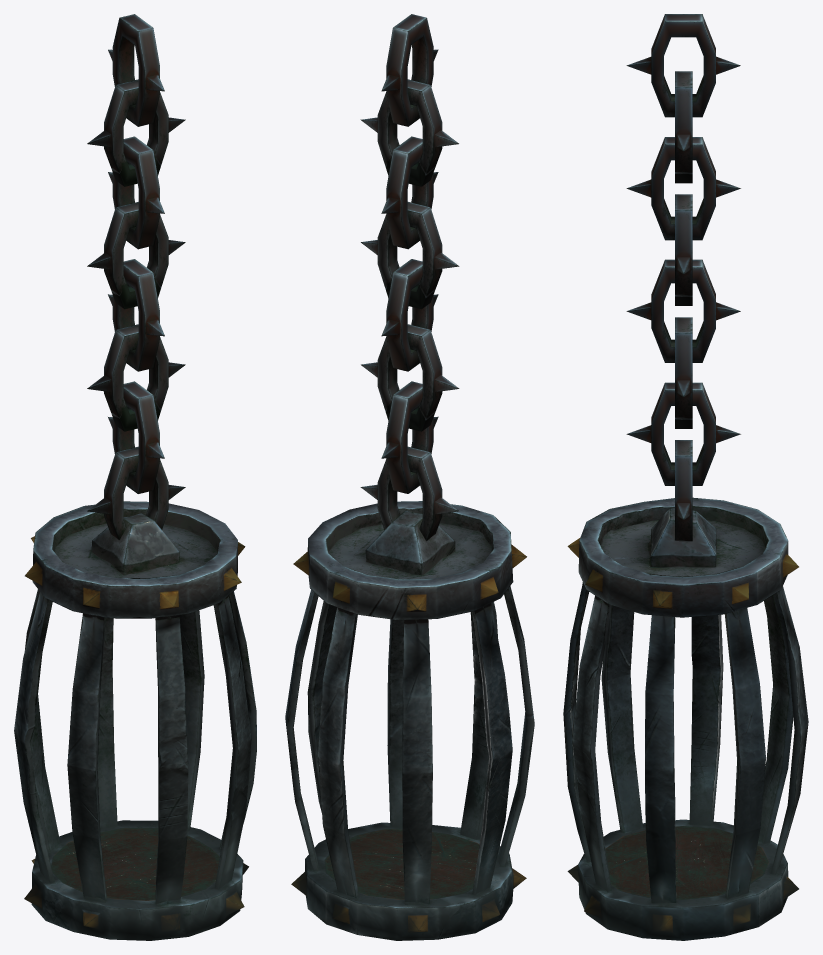
The model's file is Cage_only.fbx.
The picture shows the model from 3 angles, left to right: view 1: azimuth 30°, elevation 25°; view 2: azimuth 150°, elevation 25°; view 3: azimuth 270°, elevation 25°; orthographic projection.
Visible parts, largest first — view 1: Cage; view 2: Cage; view 3: Cage.
Boxes of the visible parts, x1,y1,x2,y2 form: Cage: (14,14,256,940); Cage: (285,14,534,940); Cage: (563,14,808,940).
Size of the model in its own units: 97.42 by 381 by 96.27.
